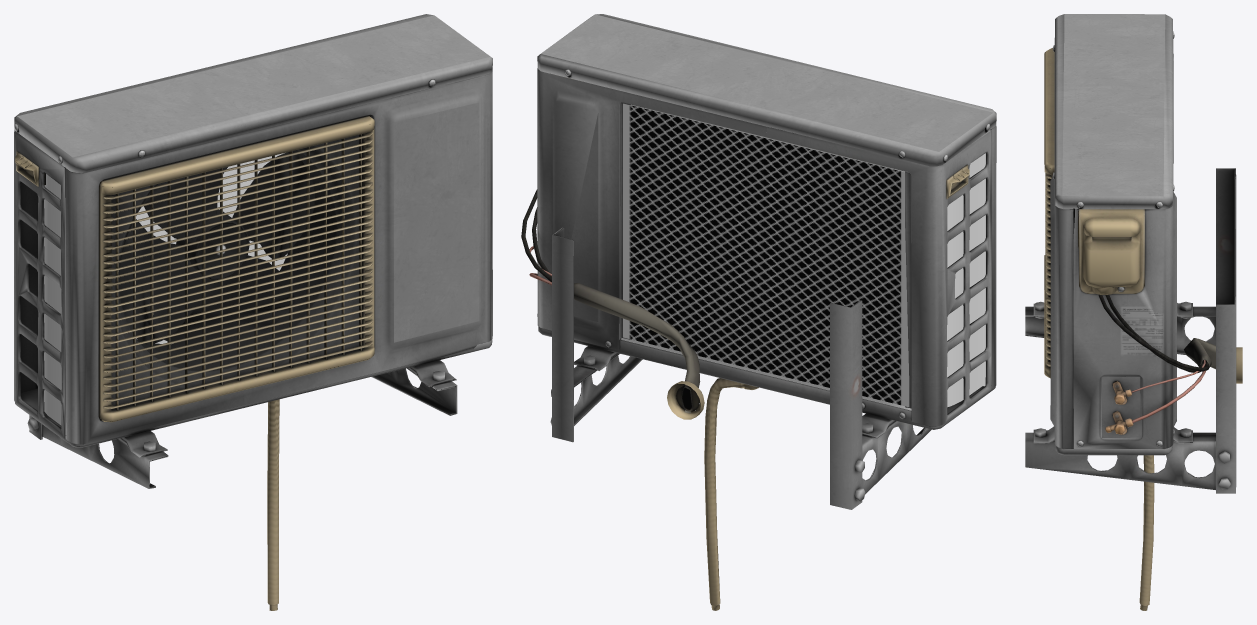
Rendered from ph_aircon.glb.
3 views of the same model, side by side, from view 1: azimuth 30°, elevation 25°; view 2: azimuth 150°, elevation 25°; view 3: azimuth 270°, elevation 25° (orthographic). The views are drawn at different scales.
Parts seen in each view (by area): view 1: exterior_aircon_unit; view 2: exterior_aircon_unit; view 3: exterior_aircon_unit.
Boxes of the visible parts, x1=… form: exterior_aircon_unit: x1=14, y1=14, x2=492, y2=610; exterior_aircon_unit: x1=521, y1=14, x2=996, y2=610; exterior_aircon_unit: x1=1025, y1=14, x2=1242, y2=610.
Size of the model in its own units: 0.8 by 0.928 by 0.3742.
Materials: 2 (2 with a texture image).
